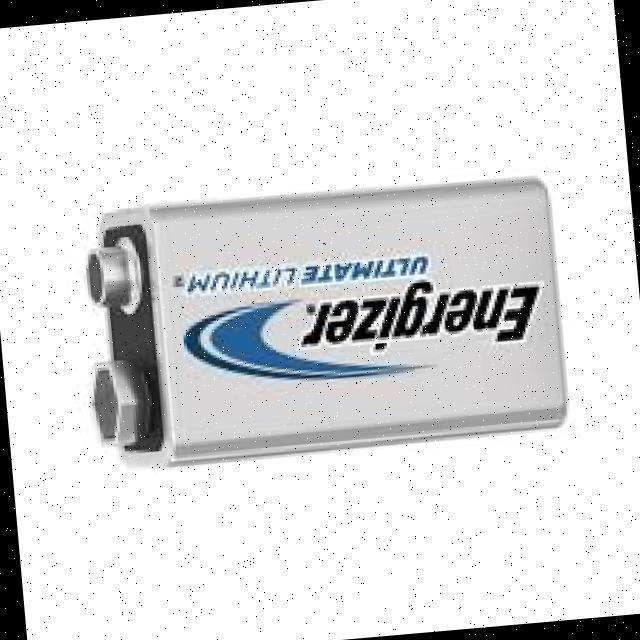9V: (87, 175, 568, 464)
